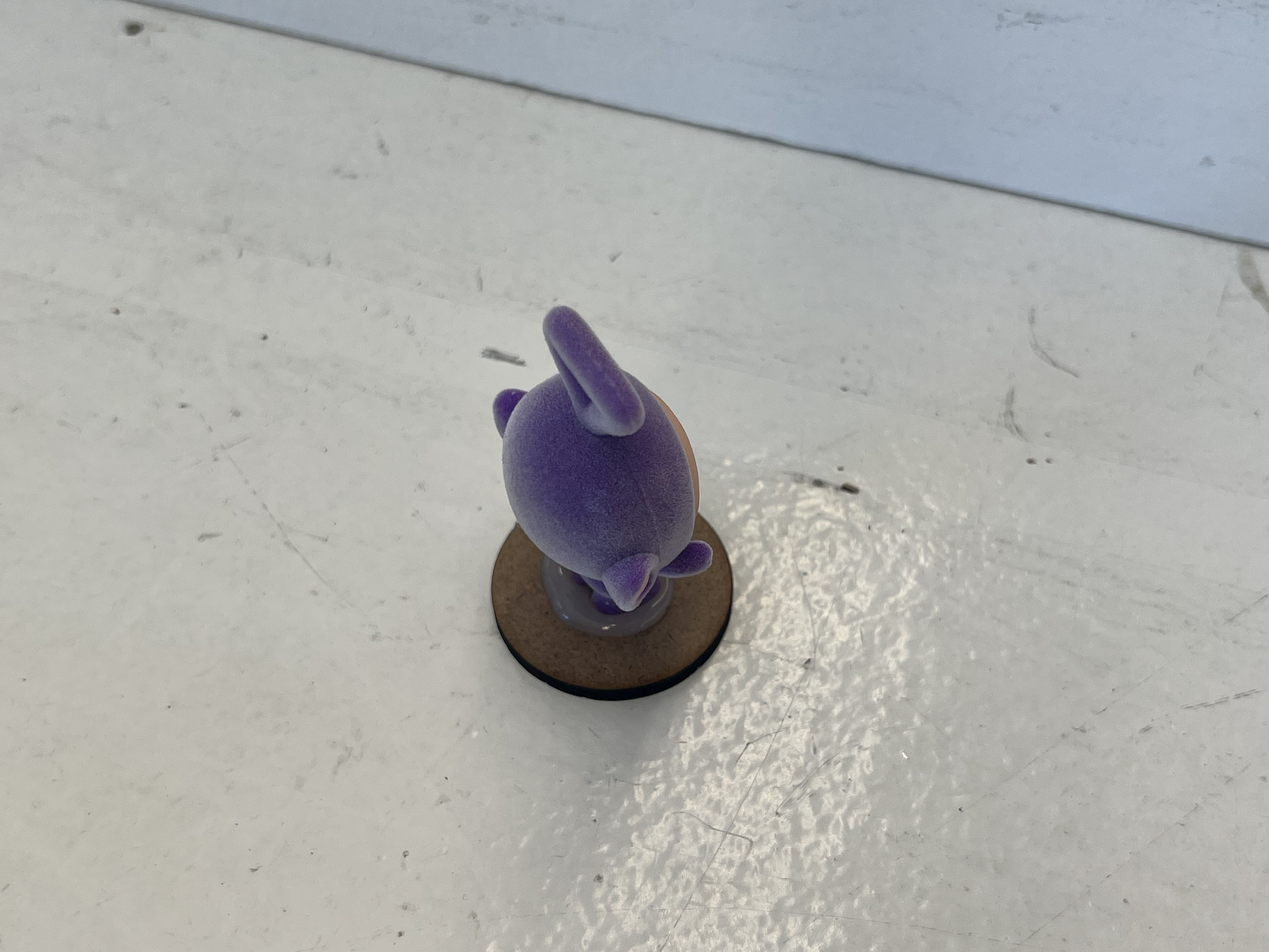teletubby: (494, 306, 712, 615)
